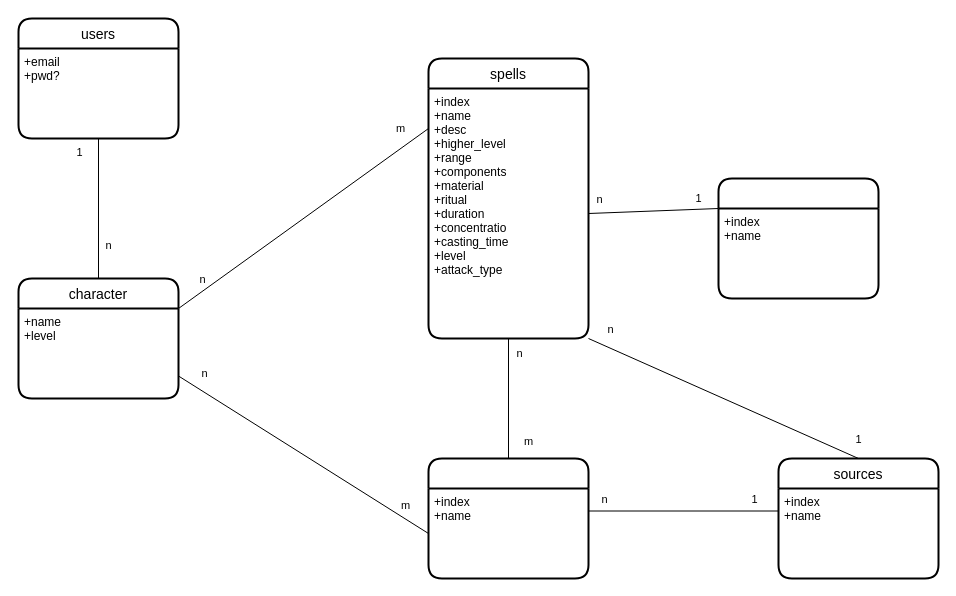
This 956x596 diagram has some shape labels left out. Each missing label, with the box of its shape:
classes: (427, 457, 589, 579)
schools: (717, 177, 879, 299)
